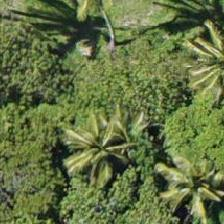coconut_tree: (59, 93, 149, 183), (148, 136, 223, 223)
